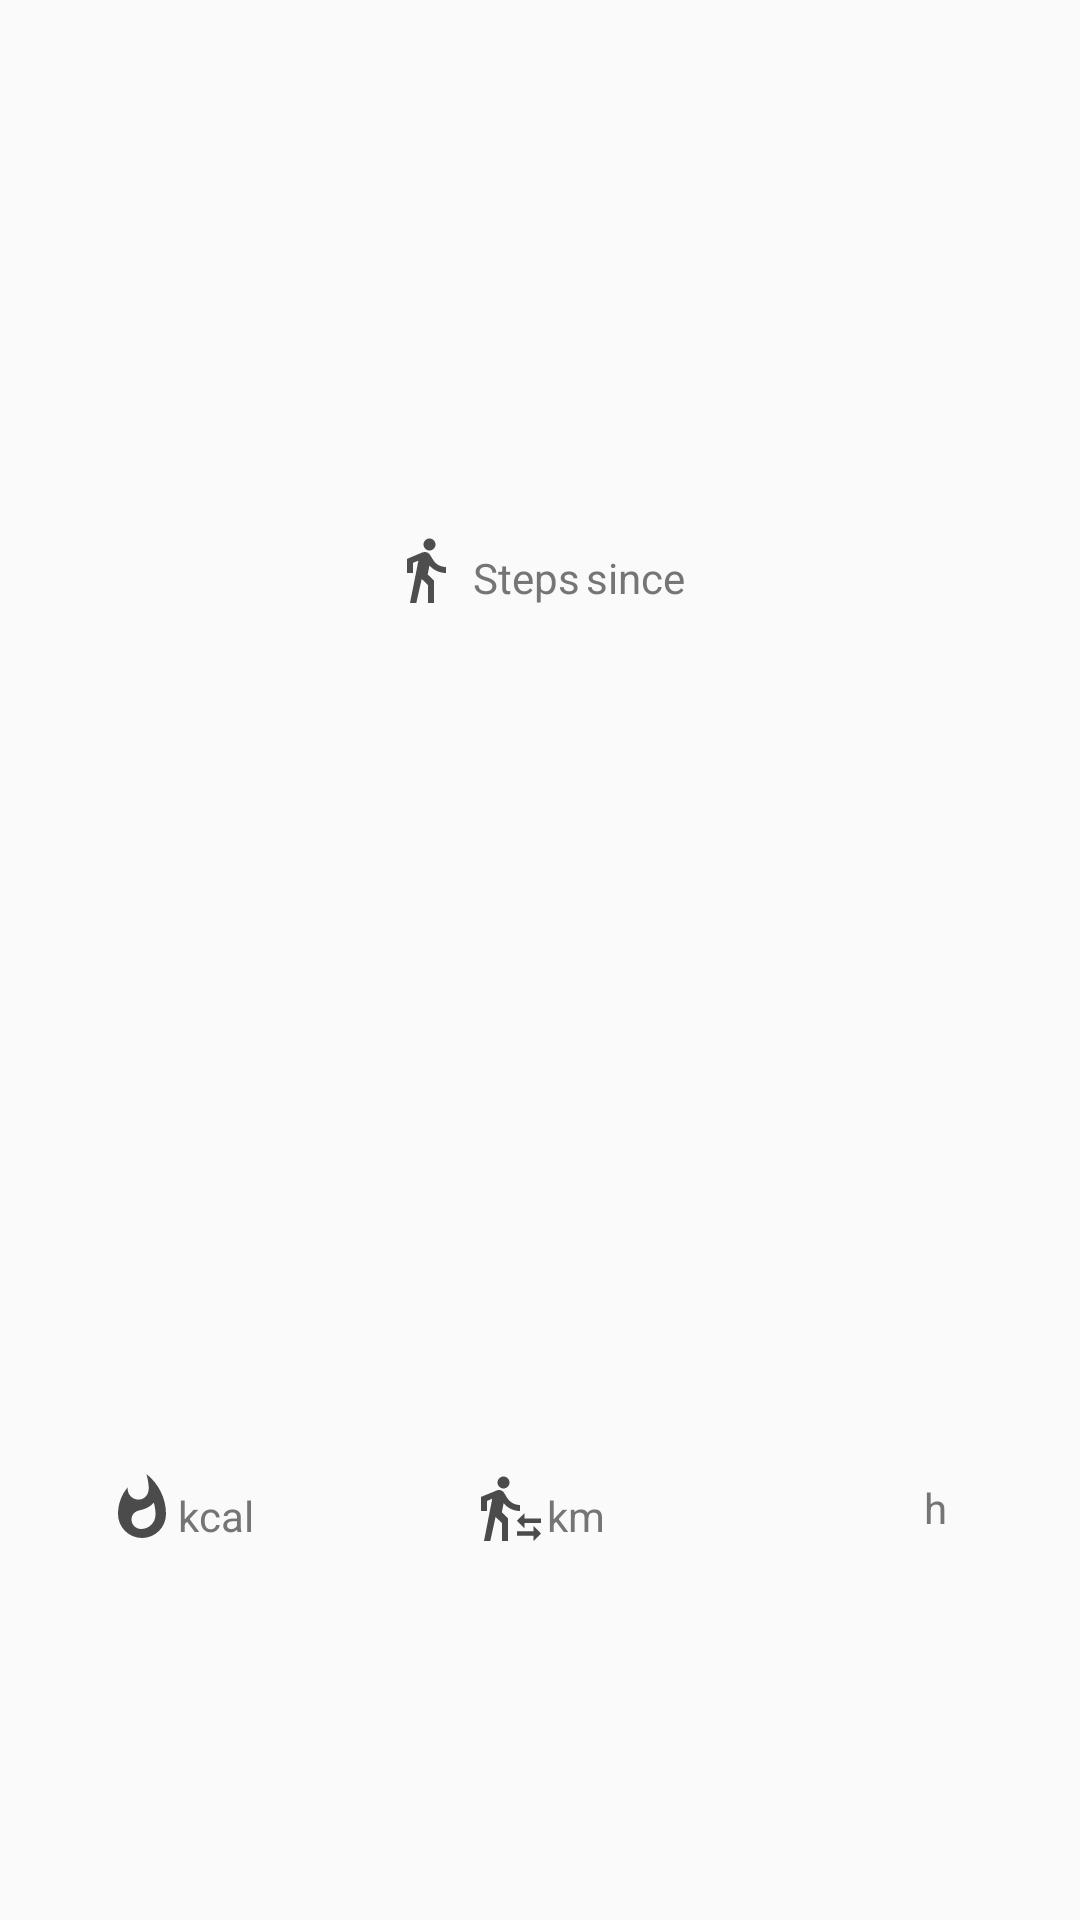

Icon click points for this 1080 x 1920 phone screenshot, format (x,y):
directions walk 65black: (426,570)
fire 65black: (142,1506)
transfer within station 65black: (511,1508)
